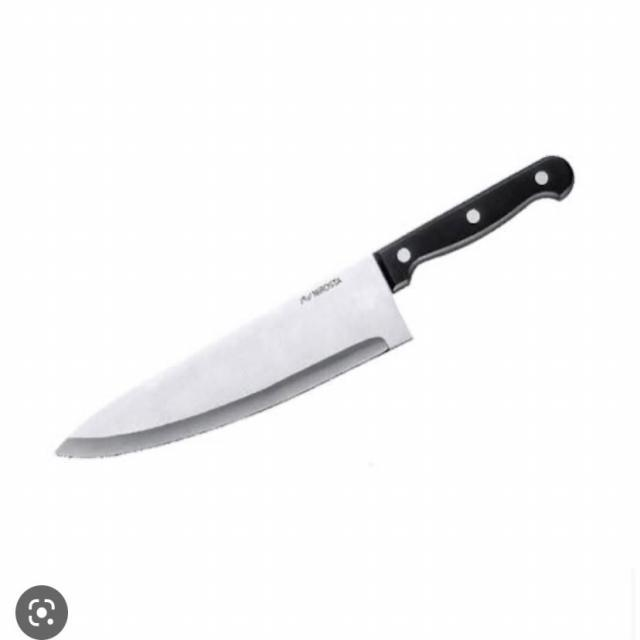Knife: (40, 138, 601, 465)
